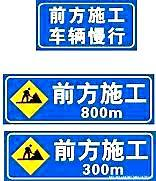sign: (6, 132, 154, 180), (4, 75, 153, 122), (38, 1, 135, 49)
